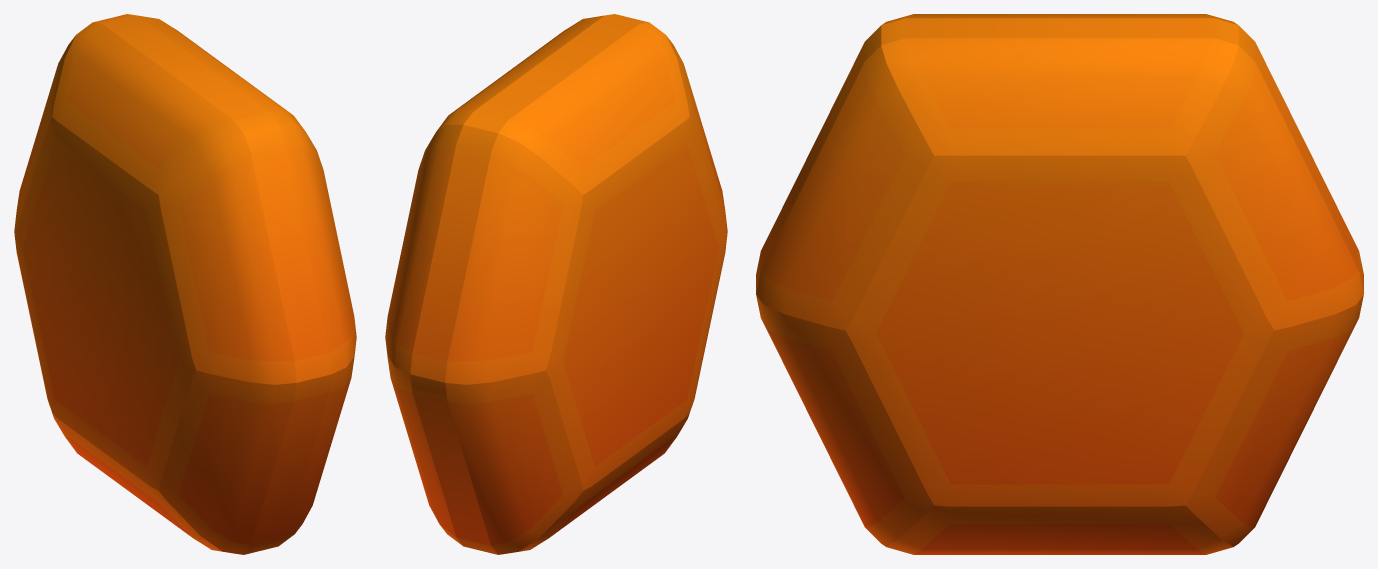
File: Gem_V2_01.fbx
The picture shows the model from 3 angles, left to right: view 1: azimuth 30°, elevation 25°; view 2: azimuth 150°, elevation 25°; view 3: azimuth 270°, elevation 25°; orthographic projection. The views are drawn at different scales.
Visible parts, largest first — view 1: Gem_V2_01; view 2: Gem_V2_01; view 3: Gem_V2_01.
Boxes of the visible parts, x1,y1,x2,y2 form: Gem_V2_01: (14,14,356,554); Gem_V2_01: (385,14,727,554); Gem_V2_01: (756,14,1363,554).
Bounding box in the file's own units: 15.91 × 38.91 × 41.87.
